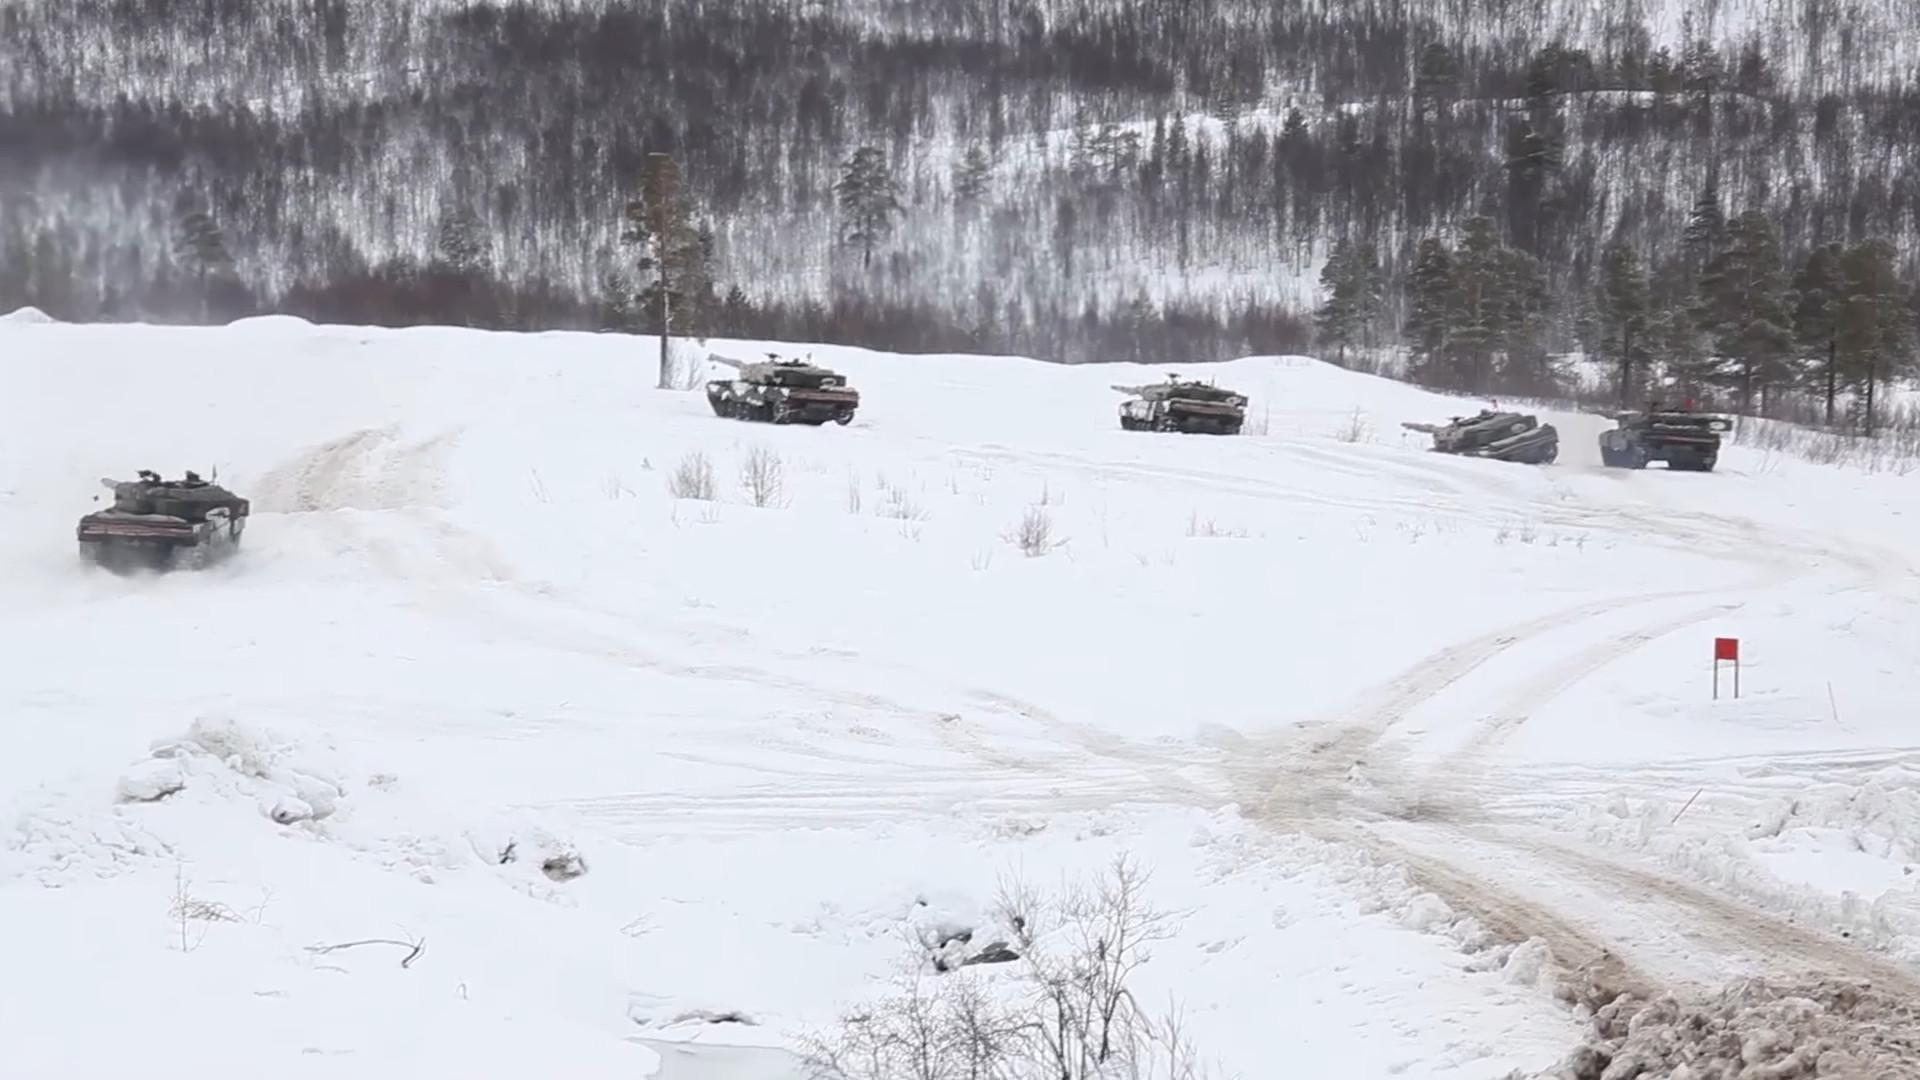tank: (78, 471, 251, 570), (705, 353, 860, 425), (1585, 407, 1731, 471), (1400, 409, 1559, 463), (1110, 381, 1247, 435)
